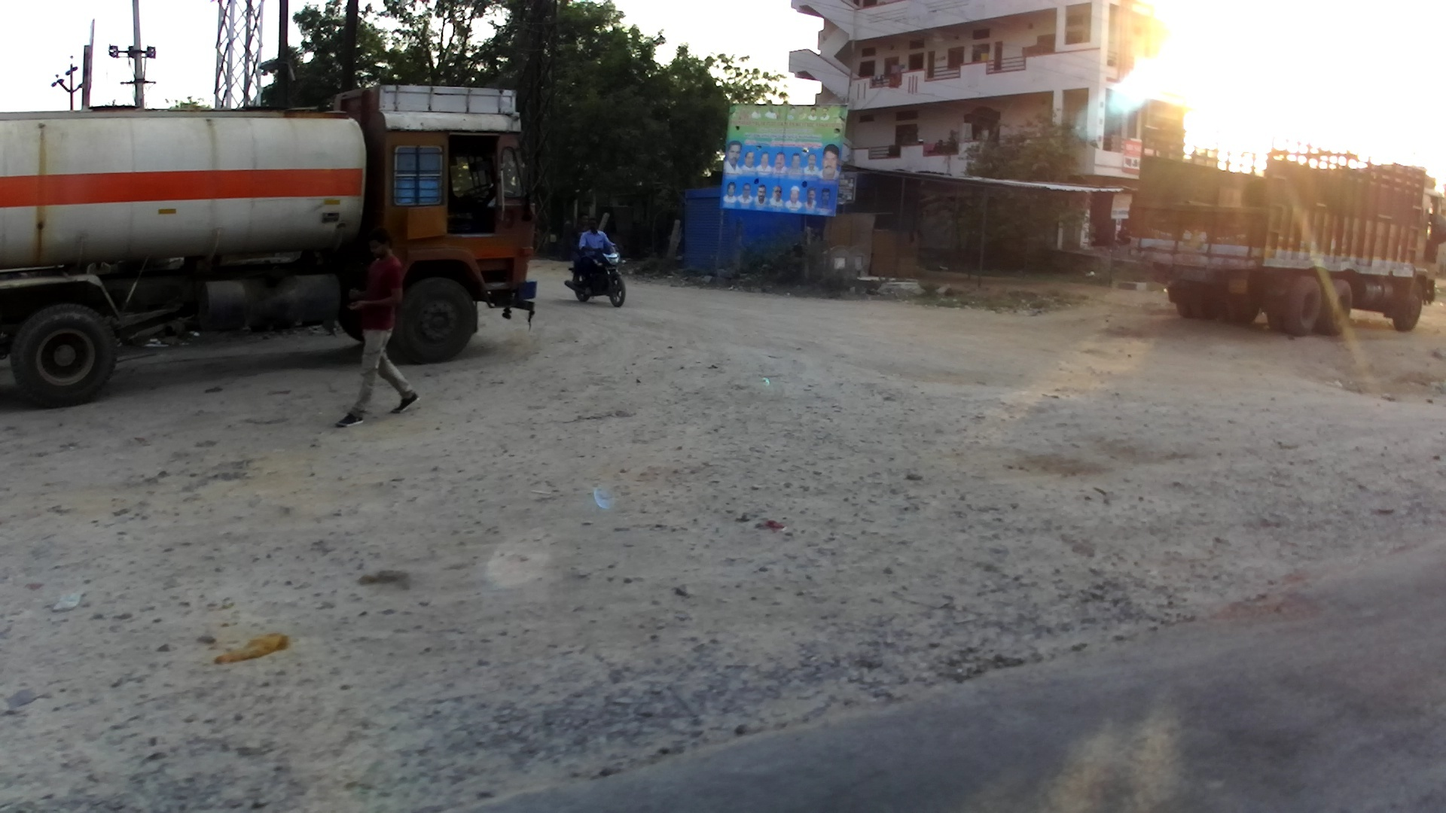motorcycle: (561, 242, 633, 309)
person: (331, 227, 416, 434)
rider: (575, 217, 616, 297)
truck: (2, 69, 538, 408), (1126, 134, 1445, 349)
